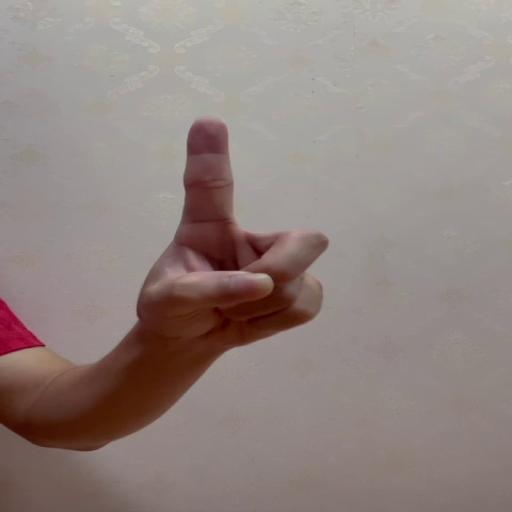point: (169, 115, 331, 338)
